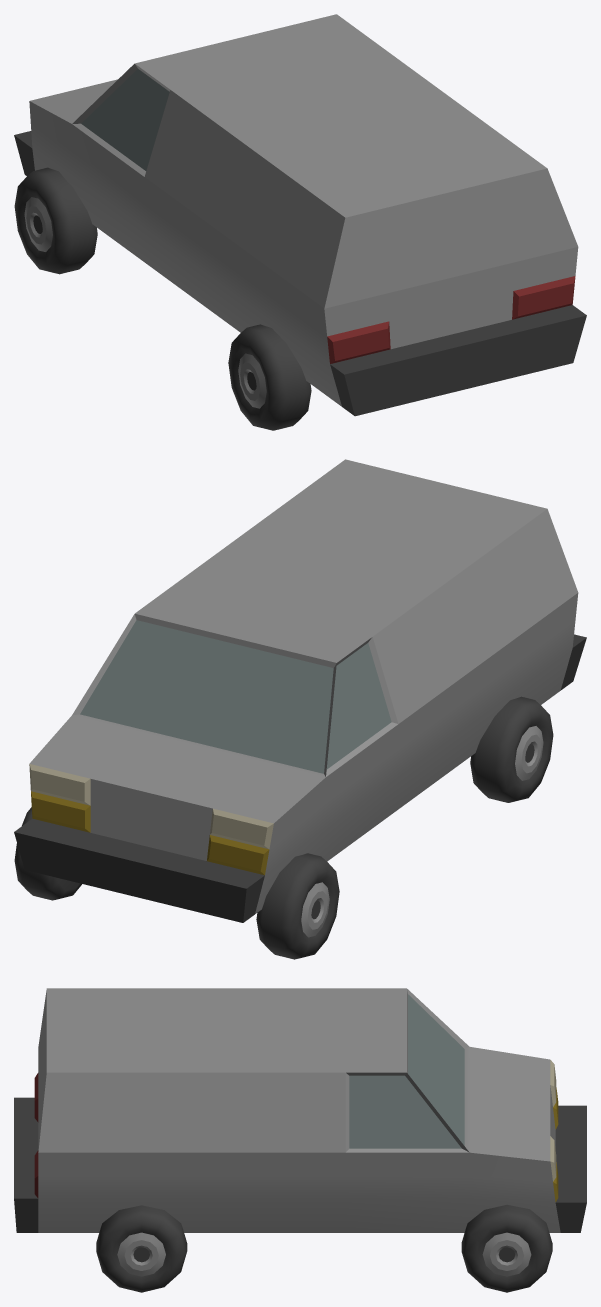
File: PS_Car04.fbx
The picture shows the model from 3 angles, top to bottom: view 1: azimuth 30°, elevation 25°; view 2: azimuth 150°, elevation 25°; view 3: azimuth 270°, elevation 25°; orthographic projection. The views are drawn at different scales.
Visible parts, largest first — view 1: PS_Car04; view 2: PS_Car04; view 3: PS_Car04.
Part boxes in pixels (x1,y1,x2,y2): PS_Car04: (14,14,586,430); PS_Car04: (14,459,586,959); PS_Car04: (14,988,586,1292).
Size of the model in its own units: 1.91 by 1.58 by 3.94.
